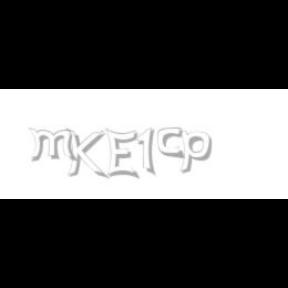1: (134, 128, 156, 176)
E: (106, 128, 138, 180)
K: (65, 128, 105, 180)
c: (158, 128, 186, 160)
m: (27, 128, 79, 162)
p: (179, 128, 216, 174)
